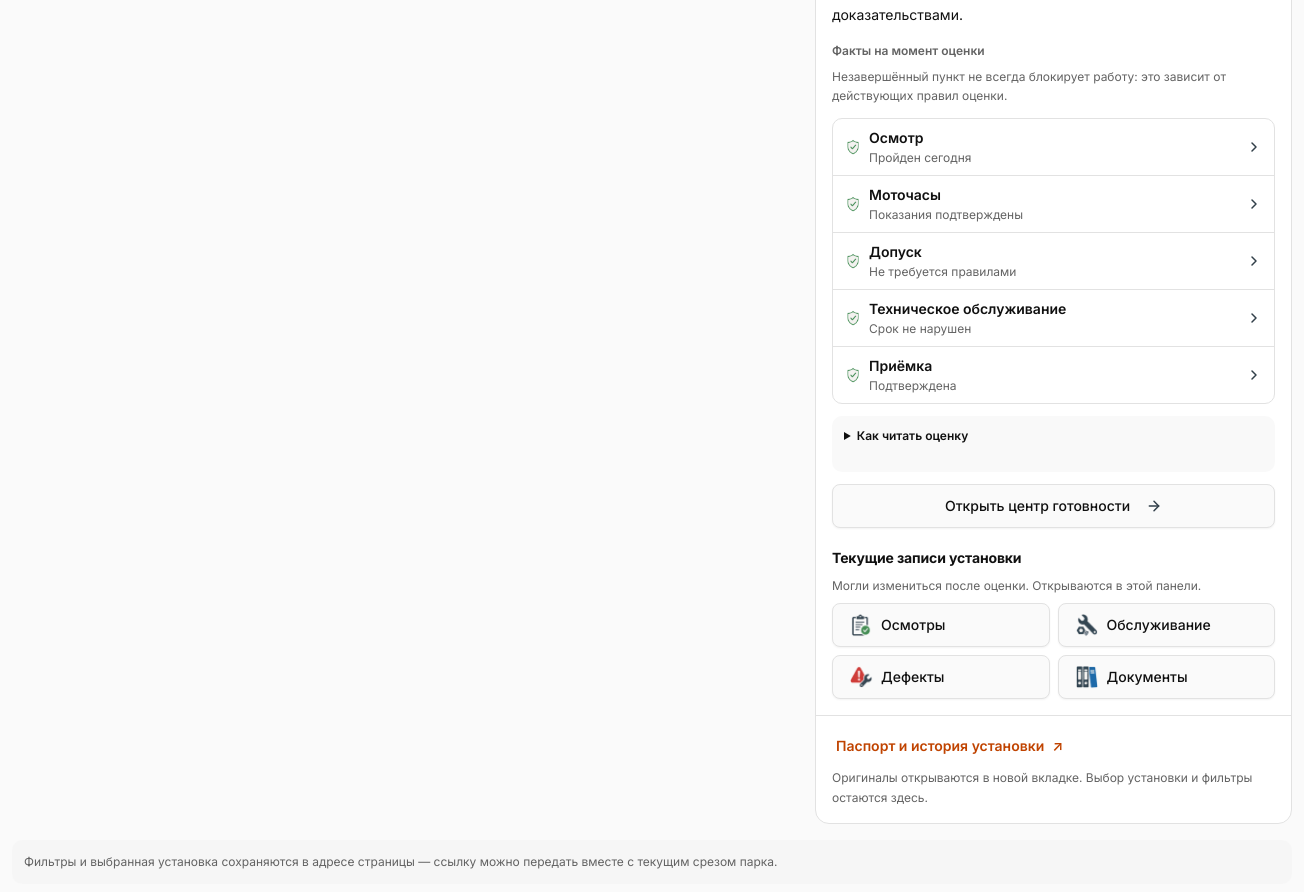
Scenario: Fleet evidence interactions › не перезапрашивает дефекты на каждый рендер с тем же снимком
(page scrolled)
Click the button "Дефекты" at (941, 677), box [832, 655, 1050, 699]
(page scrolled)
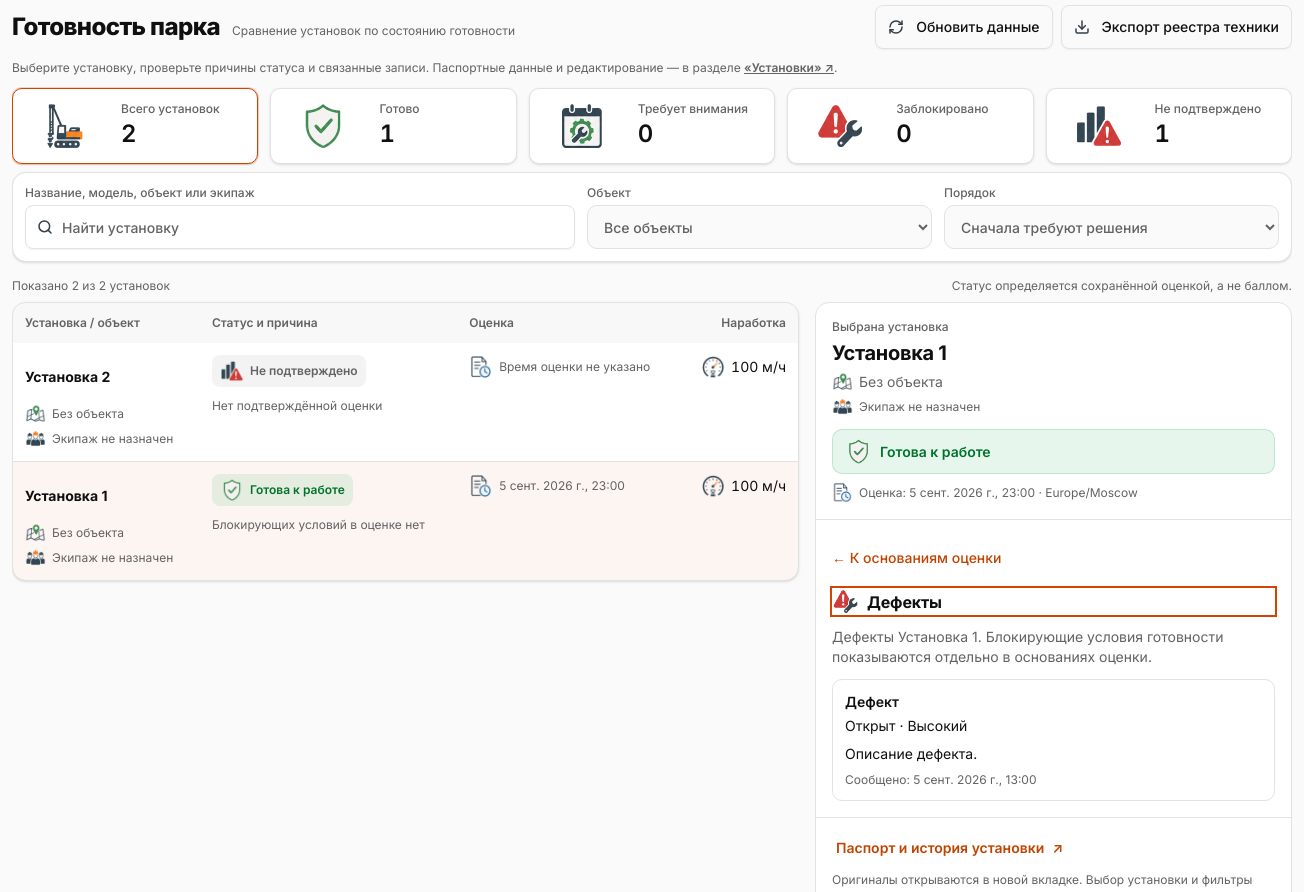
Check: the text "Дефект" is shown, box [845, 693, 899, 710]
